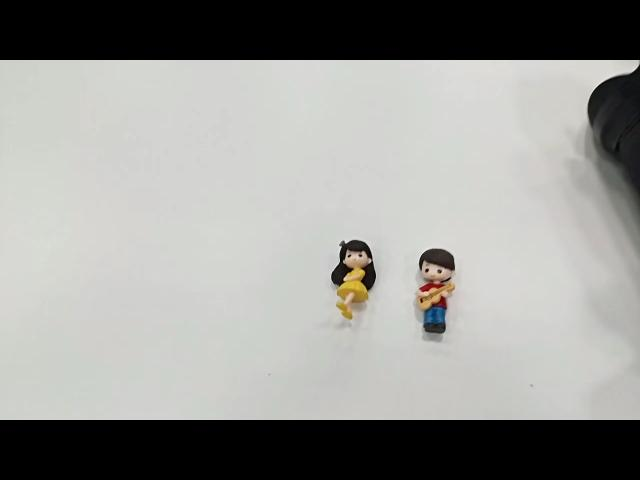man: (408, 237, 462, 334)
woman: (328, 237, 382, 327)
